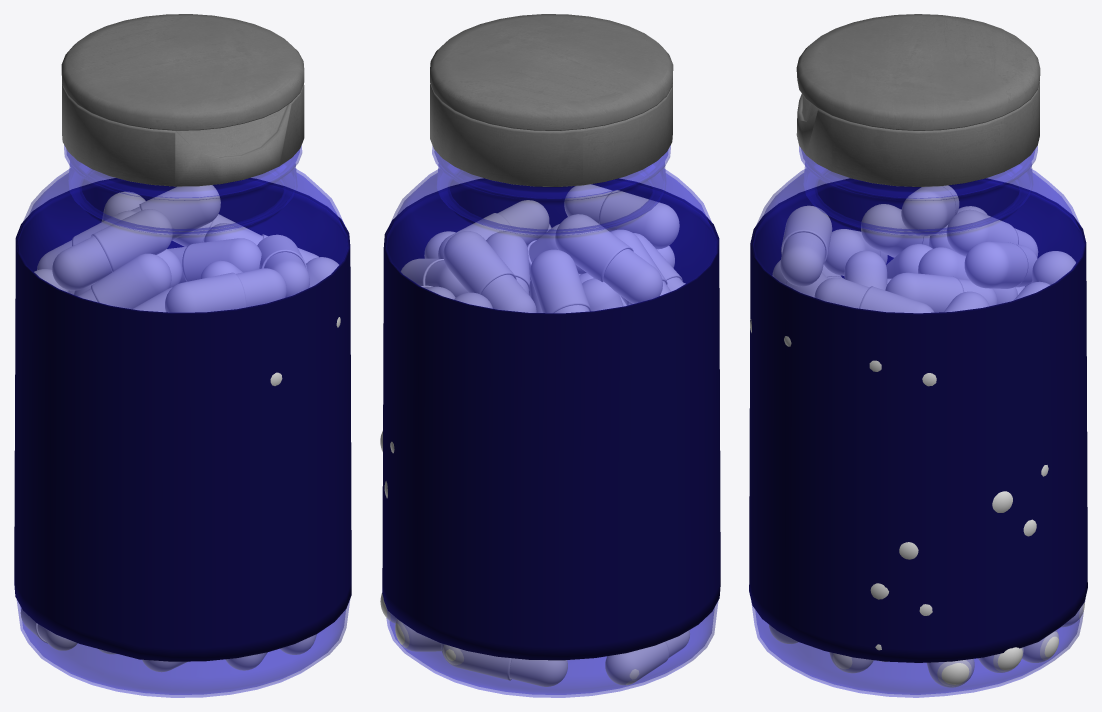
File: product-3d.glb
The picture shows the model from 3 angles, left to right: view 1: azimuth 30°, elevation 25°; view 2: azimuth 150°, elevation 25°; view 3: azimuth 270°, elevation 25°; orthographic projection.
Parts seen in each view (by area): view 1: Plane.006, Plane.007, Sphere.085, Sphere.070, Sphere.087, Sphere.089, Sphere.094, Sphere.100, Sphere.091, Sphere.093, Sphere.005, Sphere.076 (+2 smaller); view 2: Plane.006, Plane.007, Sphere.085, Sphere.070, Sphere.089, Sphere.093, Sphere.003, Sphere.100, Sphere.005, Sphere.094, Sphere.091, Sphere.088 (+4 smaller); view 3: Plane.006, Plane.007, Sphere.070, Sphere.089, Sphere.094, Sphere.100, Sphere.093, Sphere.085, Sphere.087, Sphere.090, Sphere.086, Sphere.096 (+7 smaller).
Boxes of the visible parts, x1,y1,x2,y2 form: Plane.006: (14, 145, 351, 697); Plane.007: (61, 14, 304, 186); Sphere.085: (52, 209, 172, 290); Sphere.070: (165, 268, 286, 312); Sphere.087: (78, 253, 171, 309); Sphere.089: (131, 185, 220, 240); Sphere.094: (167, 238, 261, 283); Sphere.100: (257, 234, 309, 297); Sphere.091: (204, 223, 318, 263); Sphere.093: (37, 210, 136, 269); Sphere.005: (20, 608, 77, 650); Sphere.076: (101, 191, 145, 221); Plane.006: (382, 145, 720, 697); Plane.007: (430, 14, 673, 186); Sphere.085: (555, 214, 662, 303); Sphere.070: (564, 184, 679, 249); Sphere.089: (443, 231, 536, 312); Sphere.093: (530, 249, 590, 313); Sphere.003: (441, 643, 567, 686); Sphere.100: (438, 200, 549, 258); Sphere.005: (605, 630, 689, 685); Sphere.094: (486, 231, 530, 295); Sphere.091: (401, 258, 467, 297); Sphere.088: (582, 278, 623, 311); Plane.006: (749, 146, 1087, 697); Plane.007: (796, 14, 1040, 186); Sphere.070: (780, 205, 832, 286); Sphere.089: (964, 241, 1037, 288); Sphere.094: (885, 272, 997, 312); Sphere.100: (814, 277, 934, 313); Sphere.093: (946, 209, 1038, 257); Sphere.085: (901, 185, 959, 236); Sphere.087: (861, 204, 929, 257); Sphere.090: (918, 247, 1017, 304); Sphere.086: (824, 229, 887, 275); Sphere.096: (844, 250, 887, 289).
Bounding box in the file's own units: 0.1043 × 0.1961 × 0.1041.
5 materials, 1 textured.
